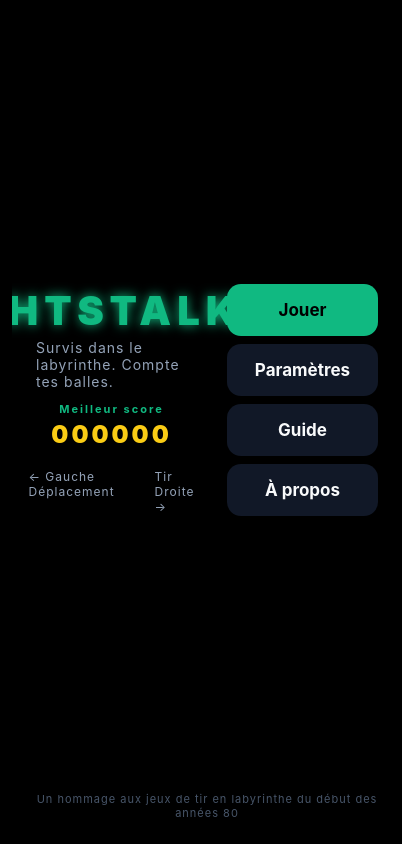
Test: guide and about (AC-43, AC-44) › shows the story verbatim, how to play, the inspiration, the author, the data and the version
The image size is (402, 844).
Click the button with test id "home-about" at (302,490), box [227,464,378,516]
(page scrolled)
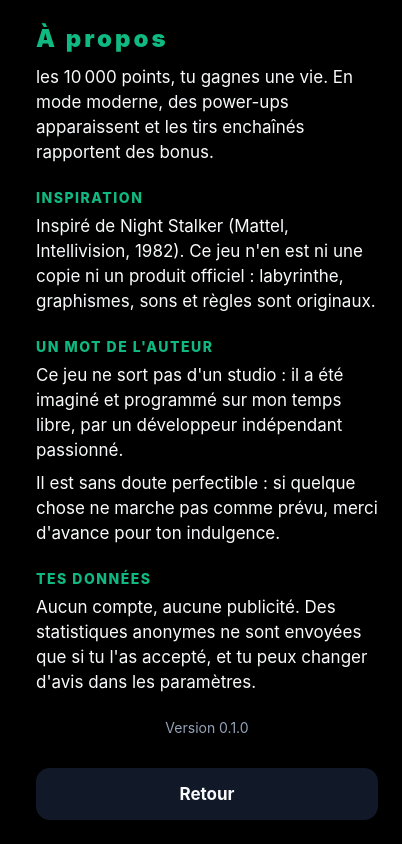
Result: the element with test id "about-screen" is shown
Result: the text "Aucun compte, aucune publicité. Des statistiques anonymes ne sont envoyées que si tu l'as accepté, et tu peux changer d'" is shown at [36,597,372,692]
Result: the text "Version 0.1.0" is shown at [165,719,249,736]
